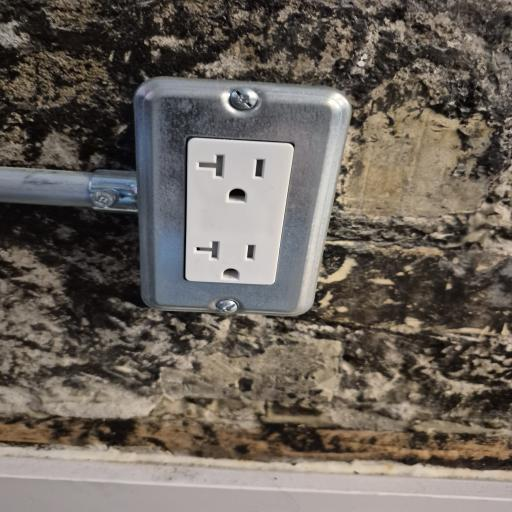outlet: (145, 61, 386, 356)
